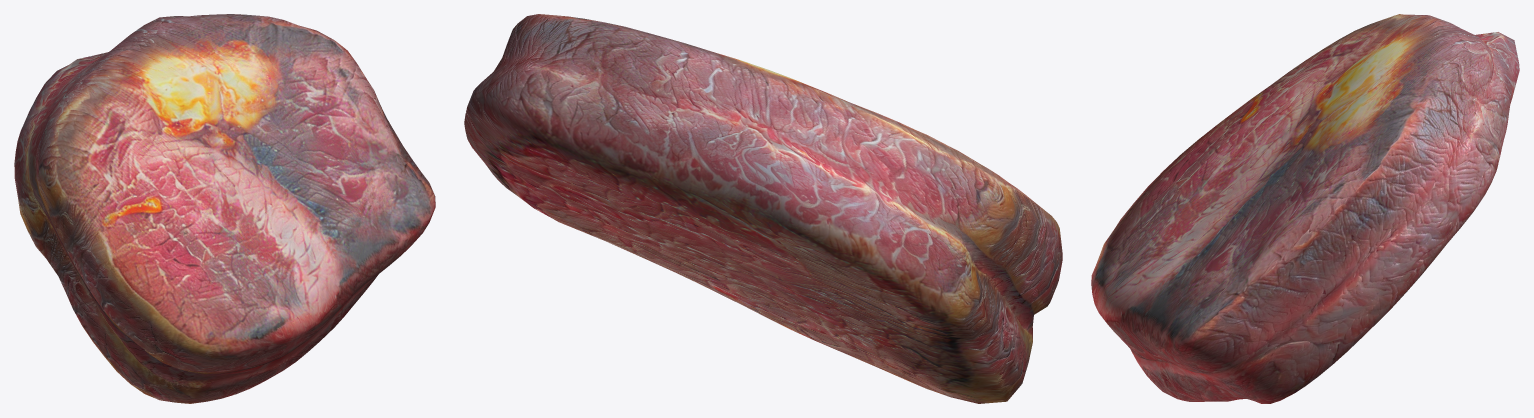
File: cc0_-_well_done_cooked_steak.glb
3 views of the same model, side by side, from view 1: azimuth 30°, elevation 25°; view 2: azimuth 150°, elevation 25°; view 3: azimuth 270°, elevation 25° (orthographic). The views are drawn at different scales.
Visible parts, largest first — view 1: WelldoneCookedSteak_WellDoneCookedSteak_0; view 2: WelldoneCookedSteak_WellDoneCookedSteak_0; view 3: WelldoneCookedSteak_WellDoneCookedSteak_0.
Part boxes in pixels (x1,y1,x2,y2): WelldoneCookedSteak_WellDoneCookedSteak_0: (14, 14, 435, 403); WelldoneCookedSteak_WellDoneCookedSteak_0: (464, 14, 1062, 403); WelldoneCookedSteak_WellDoneCookedSteak_0: (1091, 14, 1519, 403).
Size of the model in its own units: 0.0818 by 0.063 by 0.0659.
Materials: 1 (1 with a texture image).
